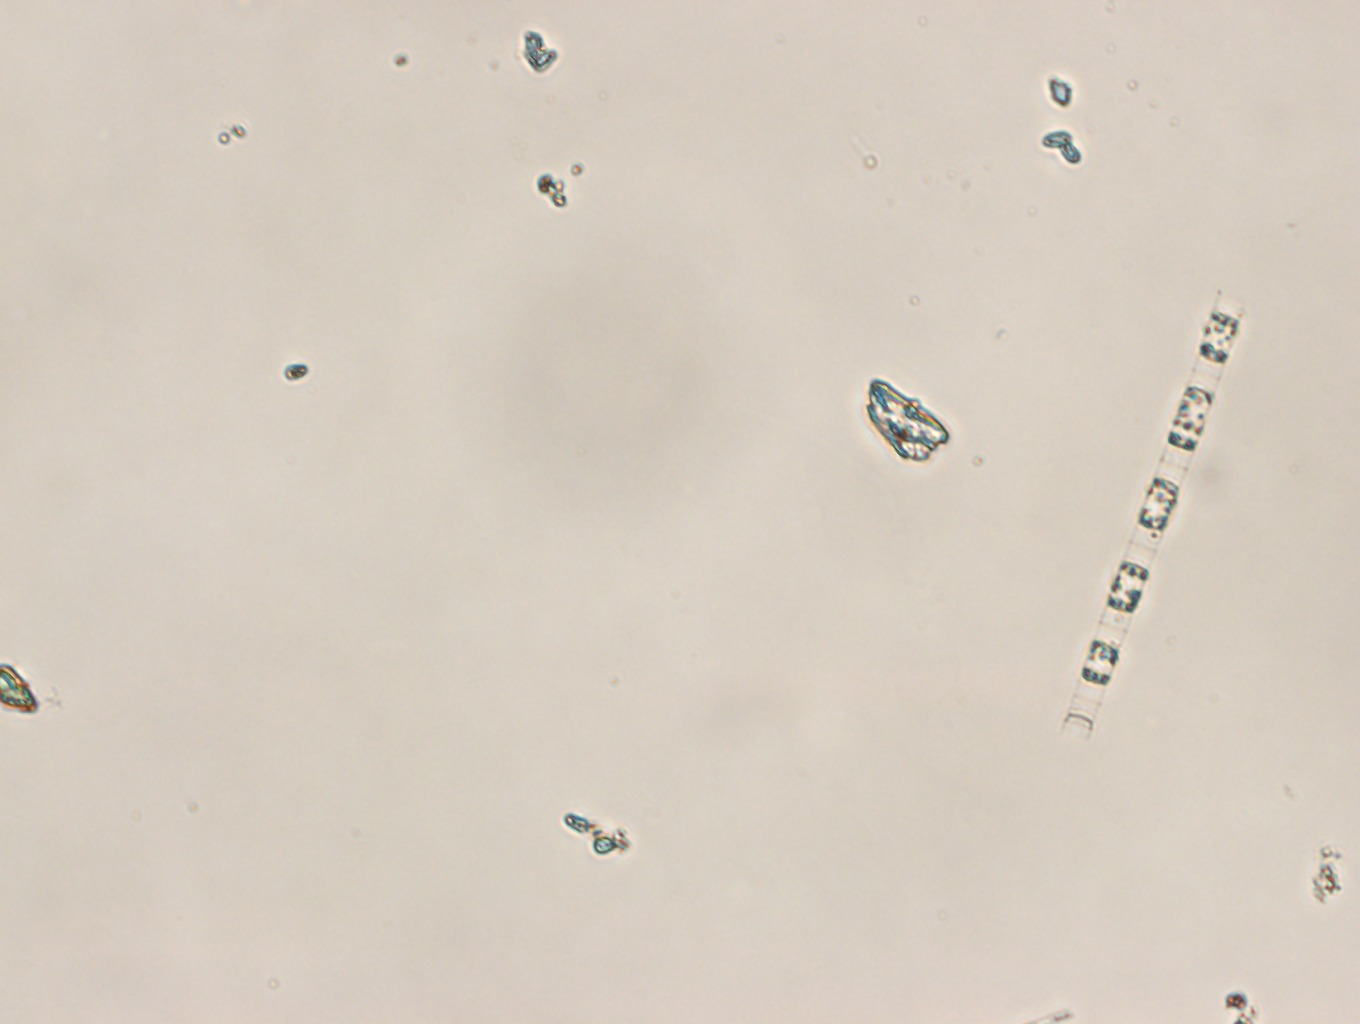skeletonema: (1061, 291, 1245, 740)
